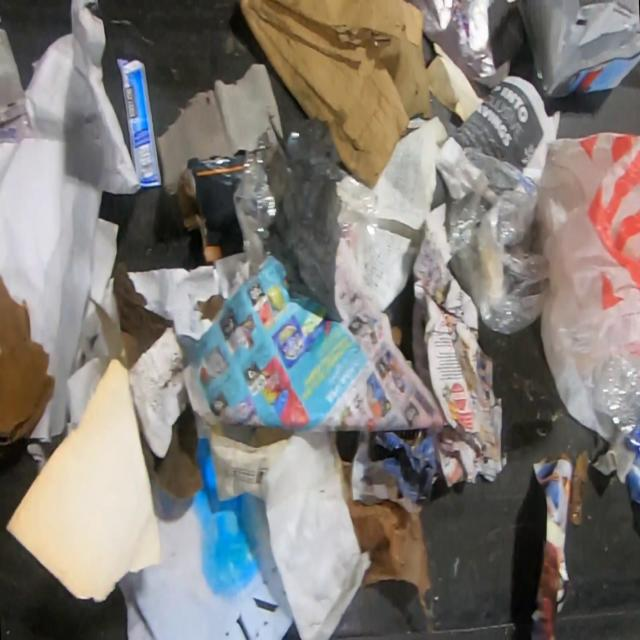cardboard: (236, 0, 431, 189), (339, 459, 434, 619)
rigid_plastic: (592, 346, 640, 453)
soft_plastic: (522, 132, 640, 444), (447, 156, 552, 334), (230, 131, 278, 263), (335, 172, 380, 265)
